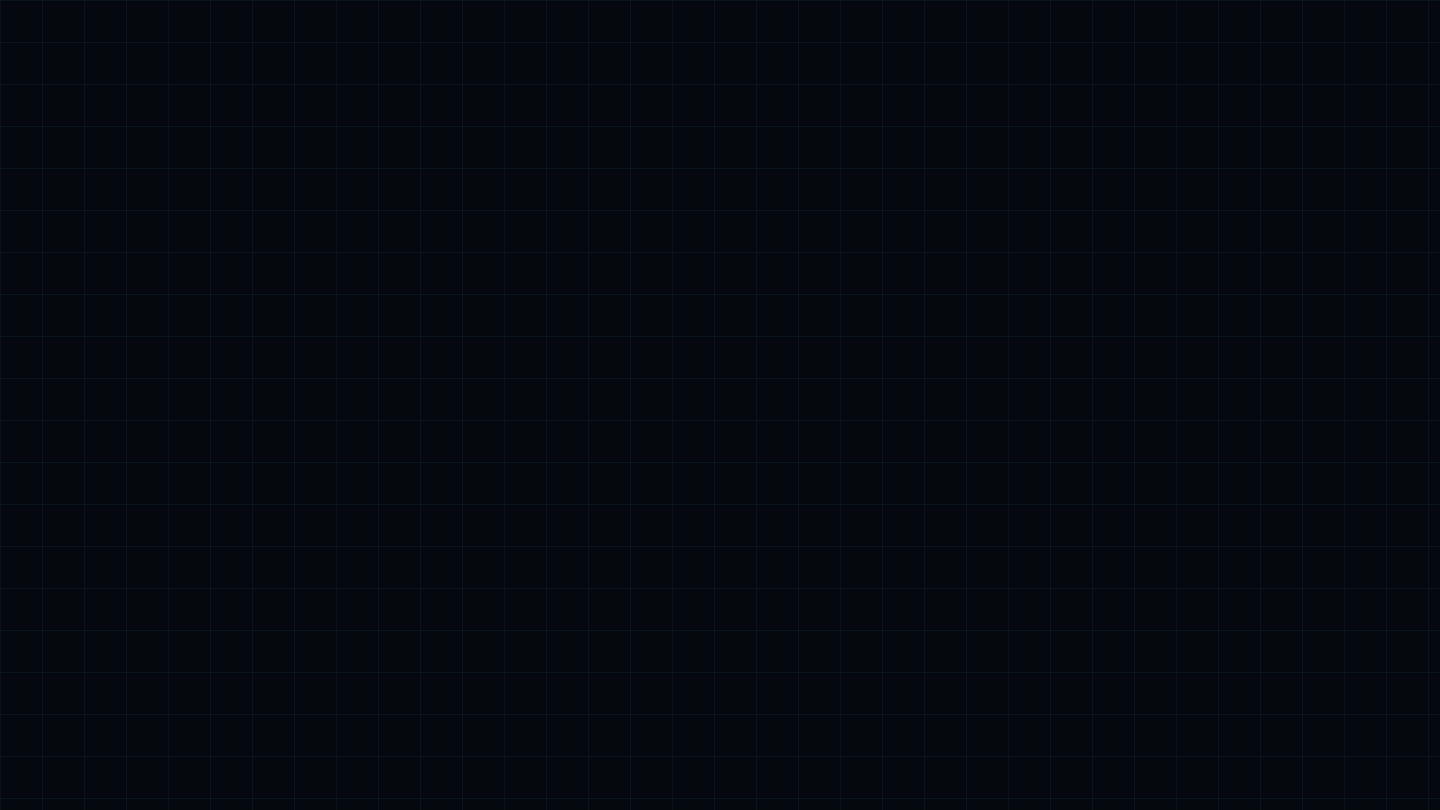
Scenario: CommandPalette › filters the list by typed query, matching keywords too
Press k
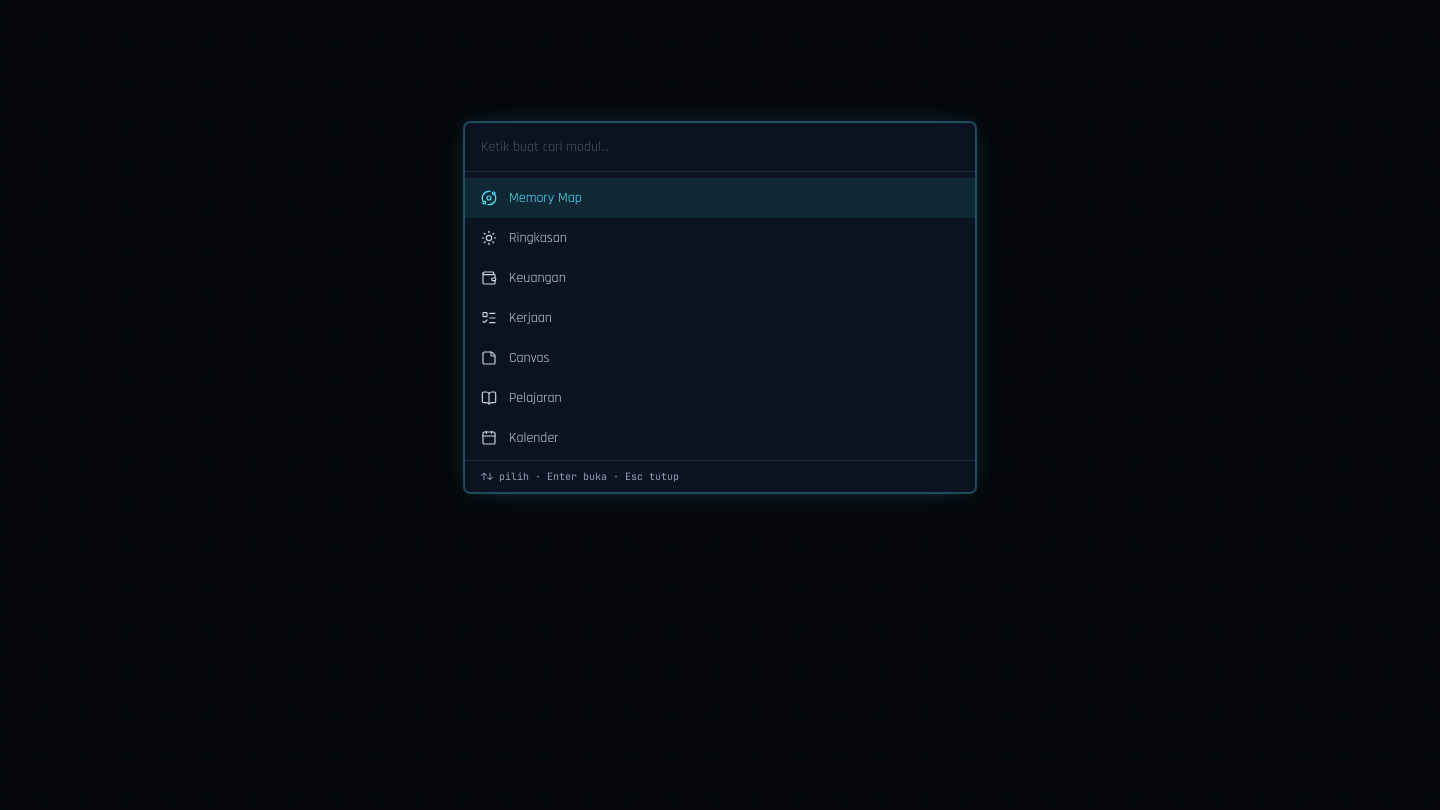
Type "kuis" into the field with placeholder "Ketik buat cari modul..." at (720, 147), box [465, 122, 975, 172]
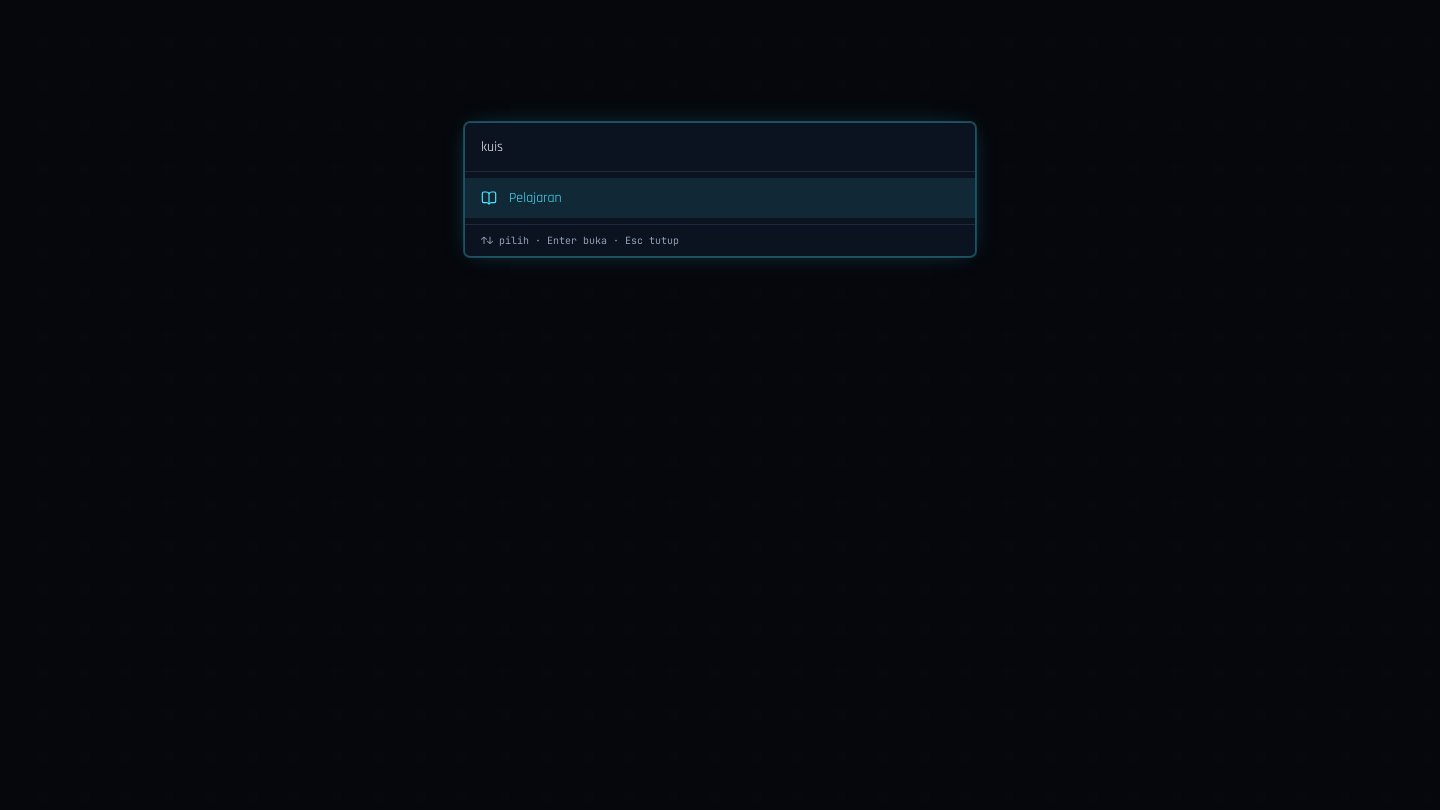
Expected: the text "Pelajaran" is shown, [509, 188, 562, 206]
Expected: the button "Keuangan" is gone
